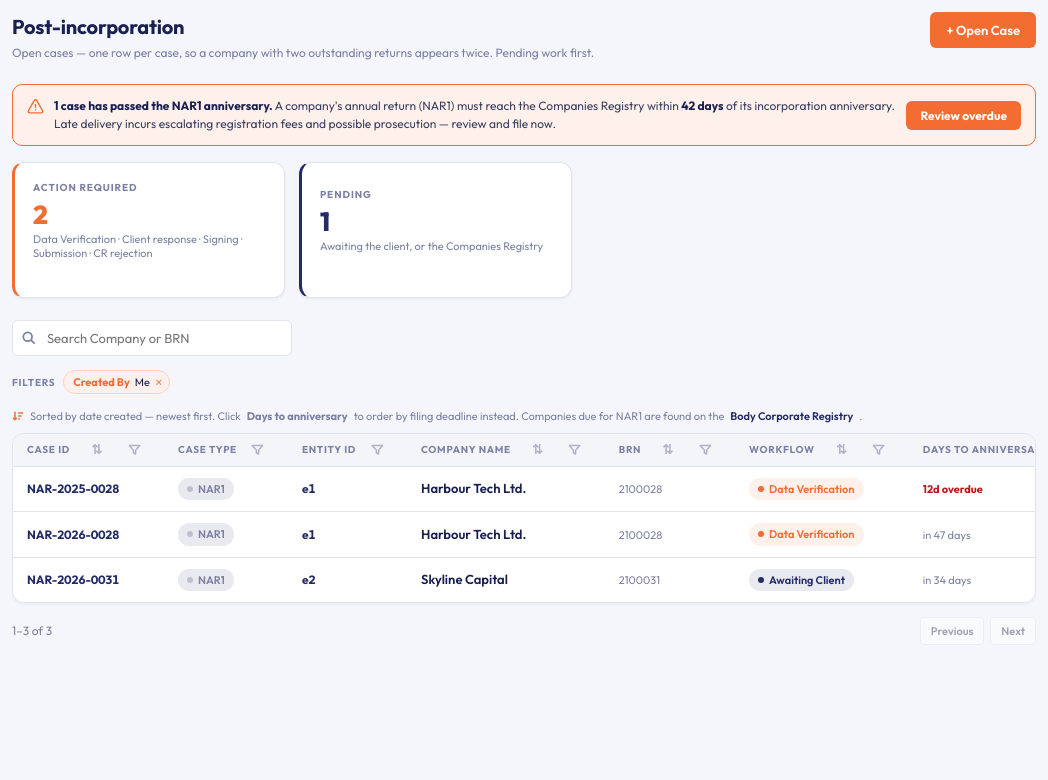
Scenario: DashboardPage — the NAR1 case dashboard (v11 s2) › warns about cases past the anniversary and can narrow to them
This screenshot has width=1048, height=780.
Expected: the text "NAR-2025-0028" is shown, [27, 481, 119, 496]
Expected: the text "1 case has passed the NAR1 anniversary." is shown, [54, 98, 273, 113]
Step 1. Click the button "Review overdue" → (964, 115), box [906, 100, 1021, 130]
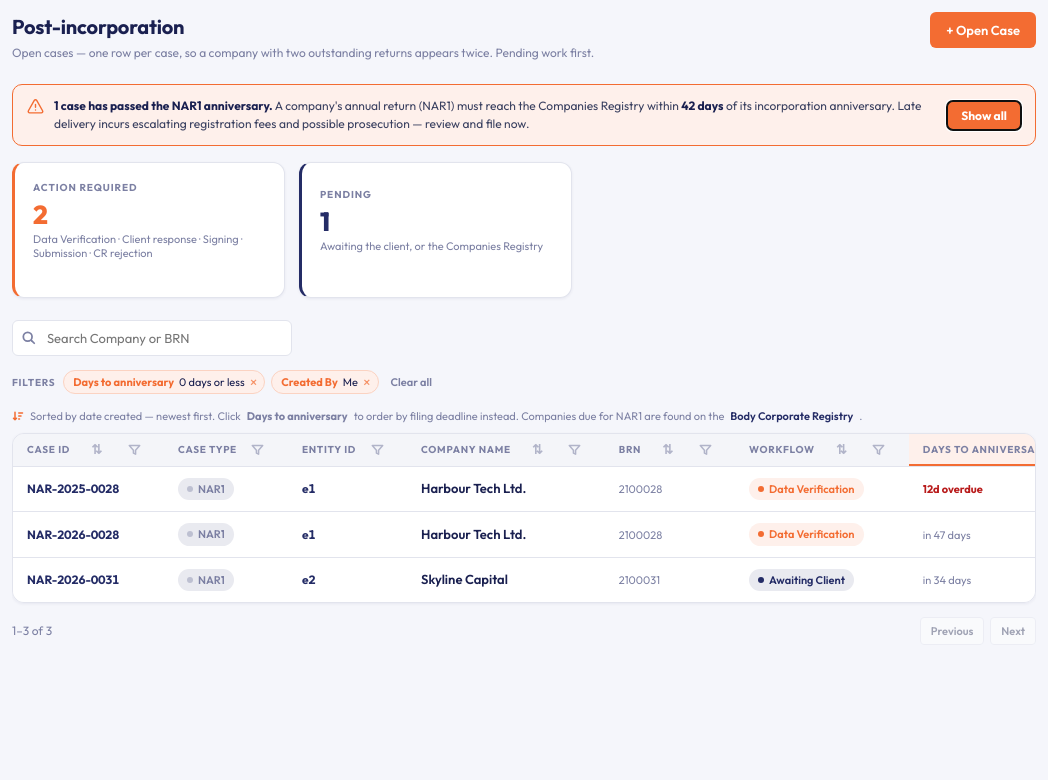
Expected: the button with aria-label "Remove the Days to anniversary filter" is shown, [63, 370, 265, 394]
